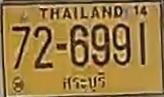1: (139, 22, 145, 64), (140, 22, 144, 64)
2: (34, 26, 52, 68)
6: (69, 23, 88, 65)
7: (11, 25, 29, 68)
9: (91, 23, 109, 65), (112, 22, 130, 64)
SRI: (61, 70, 108, 94)
